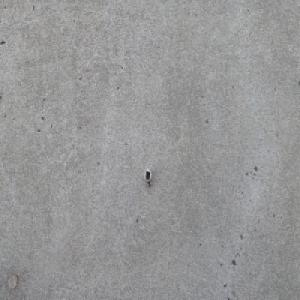MetalPart: (143, 168, 153, 190)
